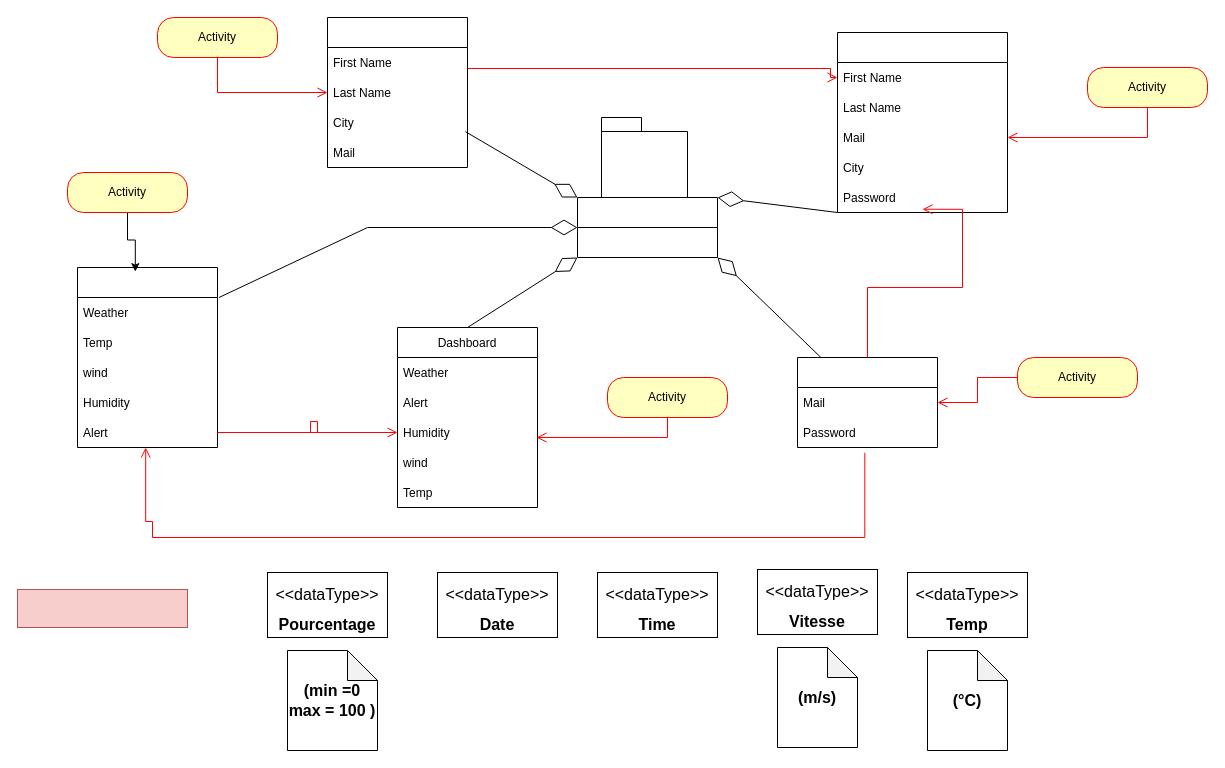
Some shapes in this 1225 by 768 pixel diagram are drawn without their labels. The box of each missing label's shape, as (x1, y1, x2, y2) in pixels:
DATA TYPE: (16, 588, 188, 628)
Home: (76, 266, 218, 448)
Login: (796, 356, 938, 448)
Main App: (576, 196, 718, 258)
Registration: (836, 32, 1008, 212)
User: (326, 16, 468, 168)
Weather & Climate APP: (600, 116, 688, 198)
